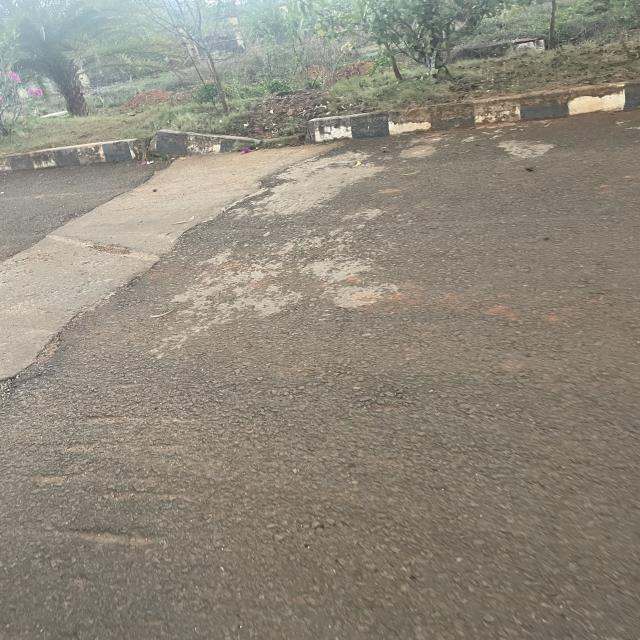D40: (106, 154, 546, 207)
D43: (214, 244, 401, 370)
